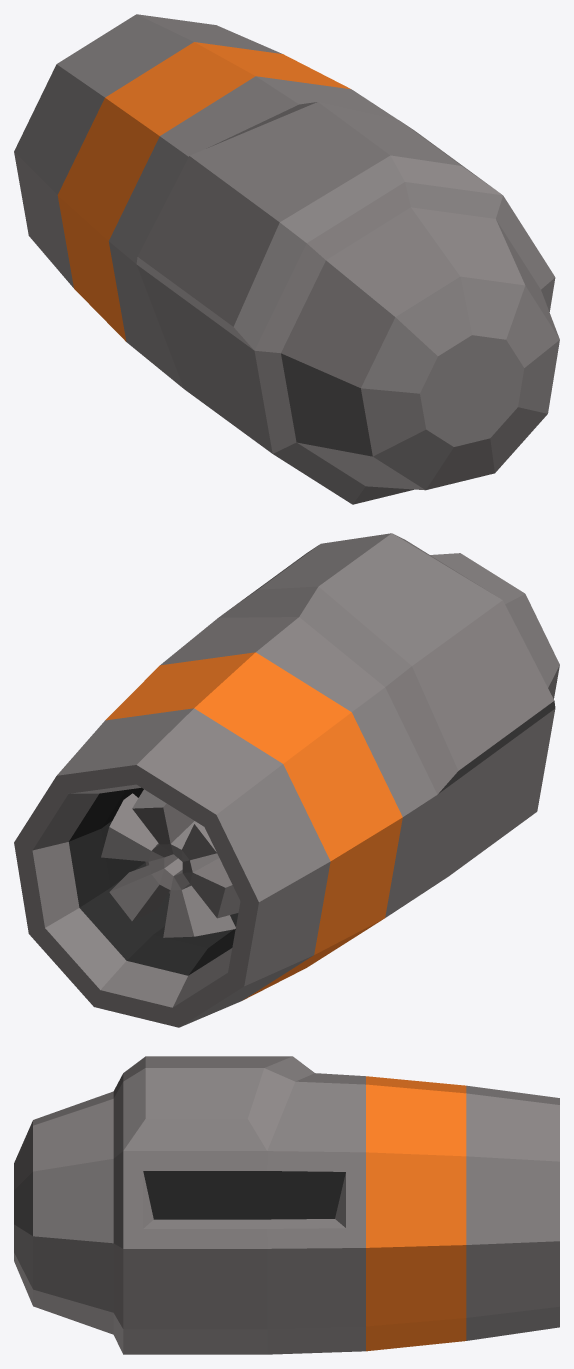
Rendered from scifi-ship-motor.glb.
The picture shows the model from 3 angles, top to bottom: view 1: azimuth 30°, elevation 25°; view 2: azimuth 150°, elevation 25°; view 3: azimuth 270°, elevation 25°; orthographic projection. The views are drawn at different scales.
Visible parts, largest first — view 1: scifi-ship-motor; view 2: scifi-ship-motor; view 3: scifi-ship-motor.
Boxes of the visible parts, left/top/right/bottom form: scifi-ship-motor: left=14, top=14, right=559, bottom=504; scifi-ship-motor: left=14, top=533, right=559, bottom=1027; scifi-ship-motor: left=14, top=1056, right=559, bottom=1354.
Size of the model in its own units: 4.07 by 4.09 by 7.61.
1 material, 1 textured.
